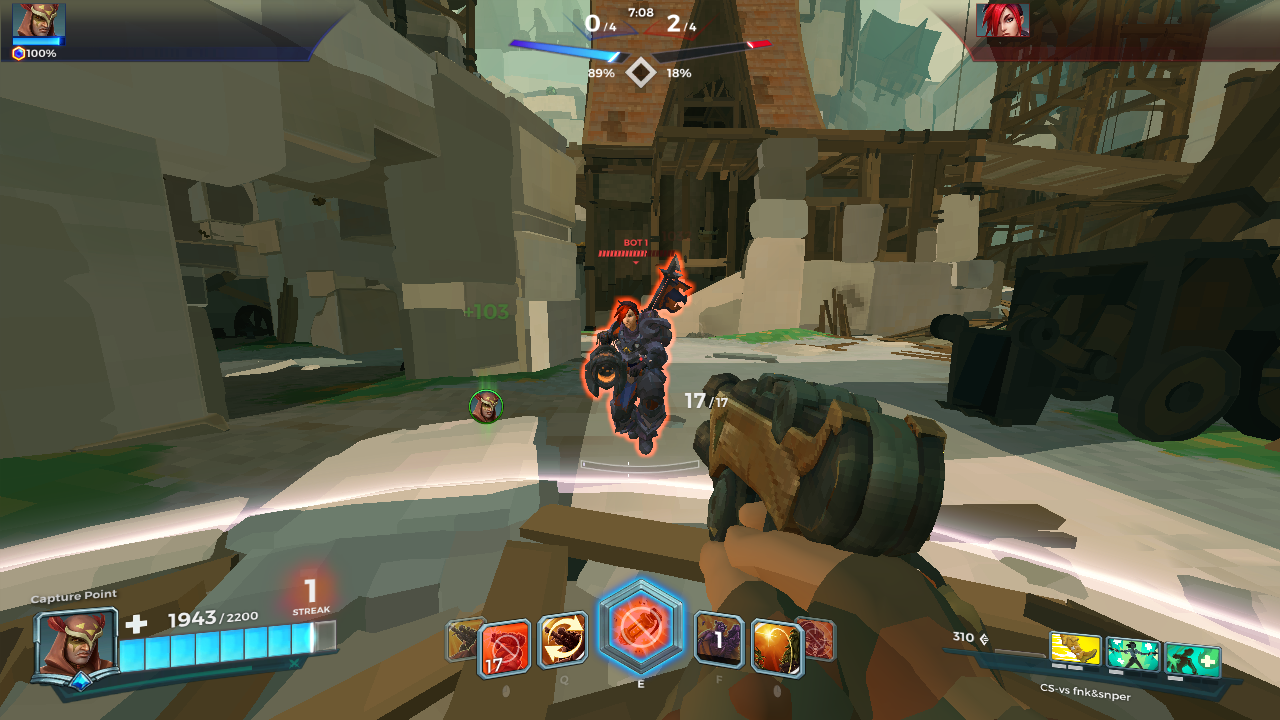model: (598, 292, 657, 457)
